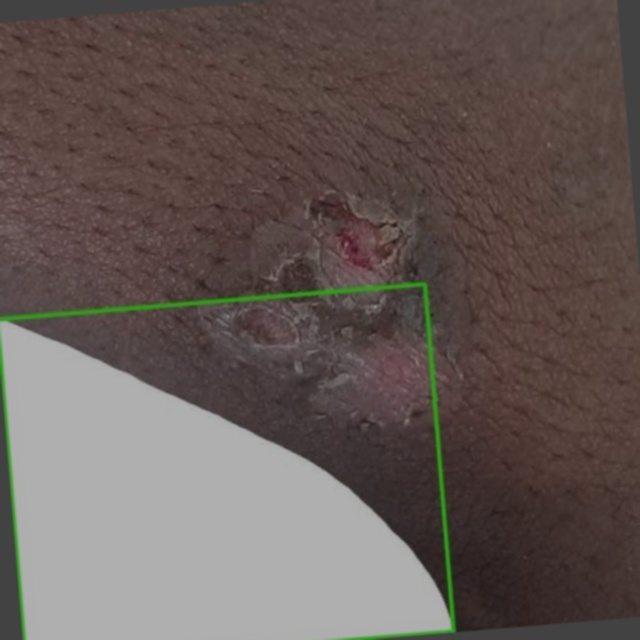Contact Dermatitis: (0, 284, 453, 639)
